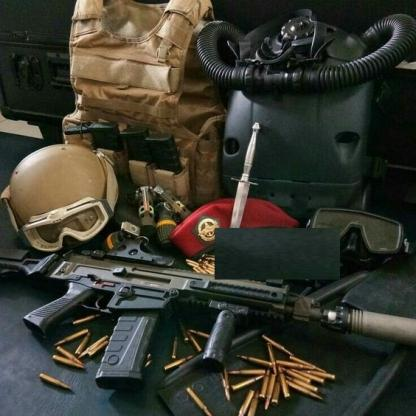Grenade: (152, 182, 192, 221), (133, 184, 157, 230), (156, 200, 177, 248)
Gun: (0, 232, 416, 392)
Knife: (229, 119, 262, 228)
